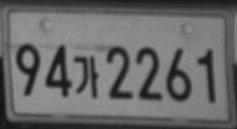1: (195, 48, 222, 101)
2: (106, 45, 132, 99), (136, 47, 162, 100)
4: (45, 44, 72, 97)
6: (166, 48, 192, 101)
9: (15, 43, 40, 96)
가: (74, 55, 99, 97)
